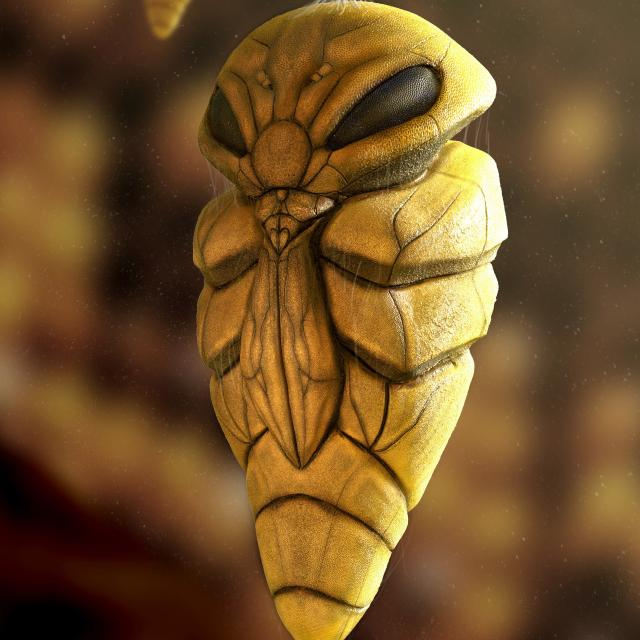Kakuna: (190, 0, 507, 640)
